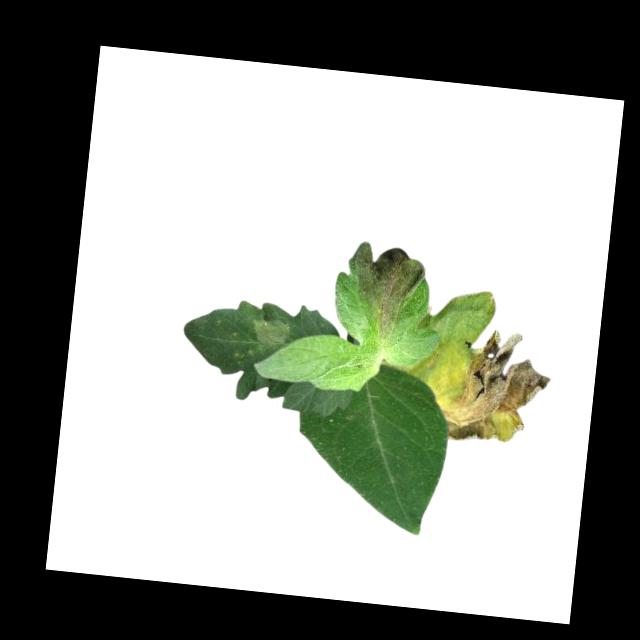Late_blight: (438, 324, 555, 450), (339, 237, 430, 343), (248, 317, 292, 349), (482, 291, 498, 314)
